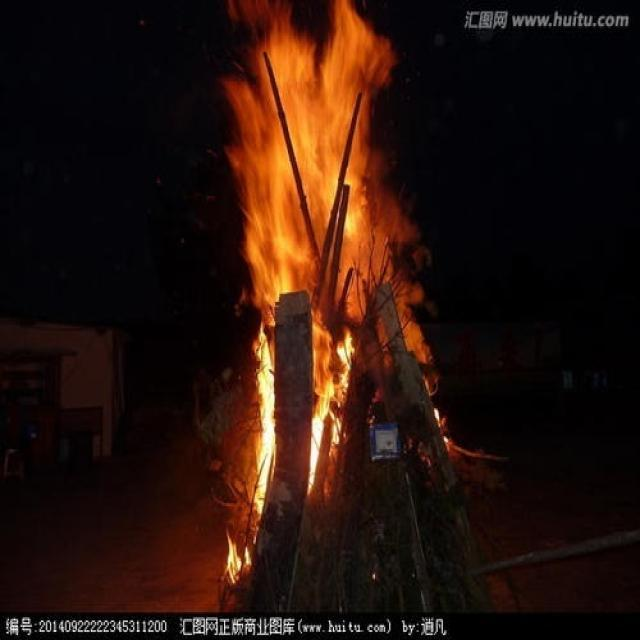Fire: (222, 1, 390, 582)
Smoke: (368, 150, 431, 366)
